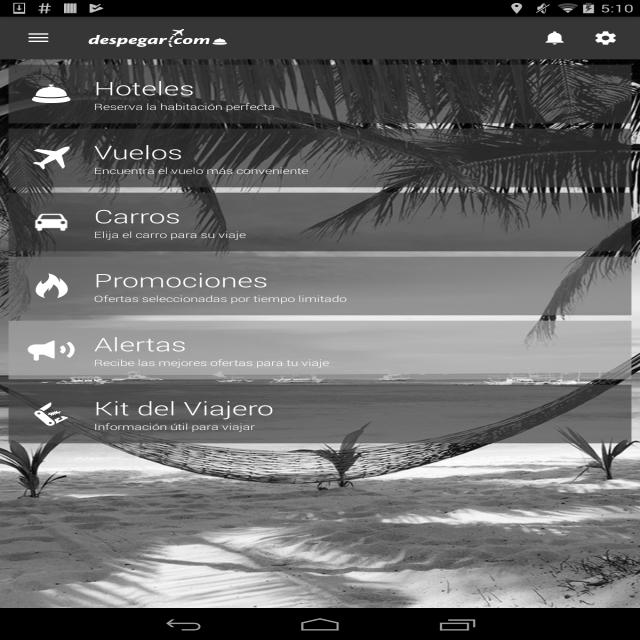ImageButton: (9, 17, 68, 59), (529, 22, 580, 54)
ImageView: (0, 59, 640, 608), (86, 27, 230, 49), (26, 78, 76, 110), (26, 142, 76, 174), (26, 206, 76, 238), (26, 270, 76, 302), (26, 334, 76, 366), (26, 398, 76, 430)
TextView: (94, 395, 285, 421), (94, 267, 279, 293), (94, 292, 347, 304), (94, 75, 205, 101), (94, 356, 329, 368), (94, 164, 308, 177), (94, 331, 197, 357), (94, 139, 194, 165), (94, 203, 192, 229), (94, 100, 275, 112), (94, 420, 255, 432), (94, 228, 246, 240), (580, 22, 632, 54)
